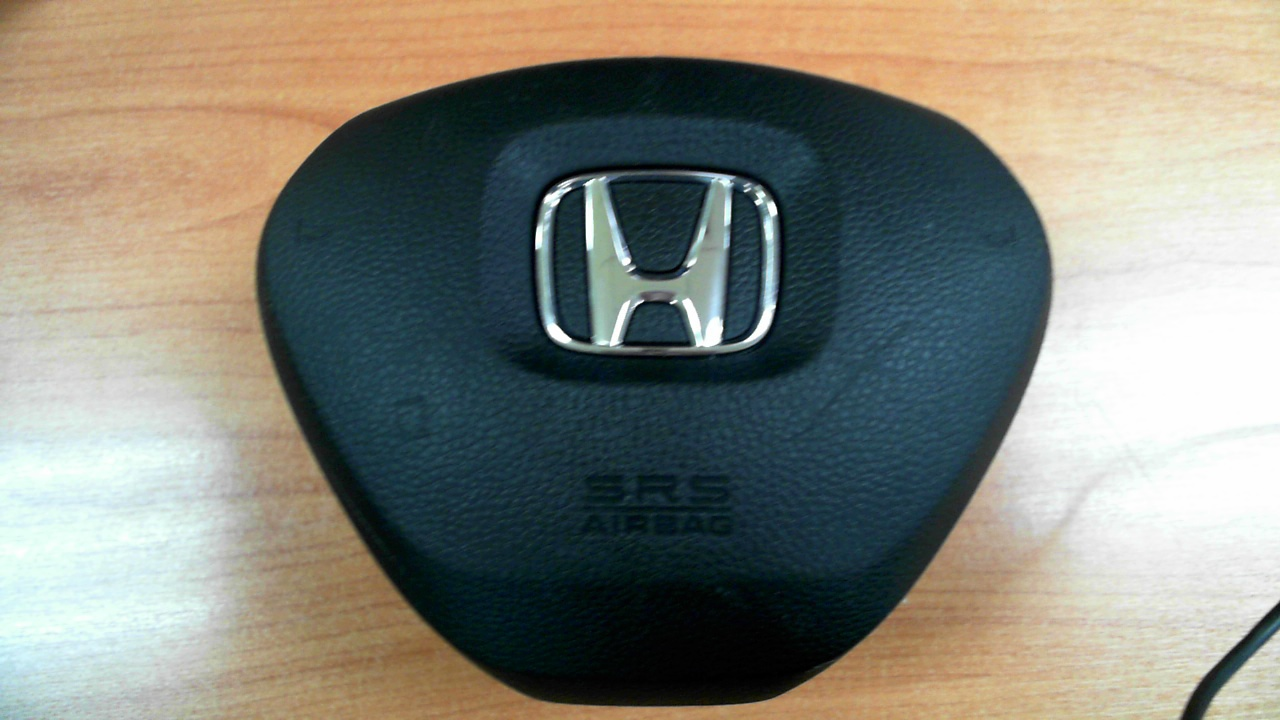Airbag: (256, 56, 1054, 709)
Honda: (534, 169, 780, 356)
